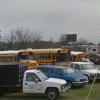Bus: (3, 39, 76, 67)
